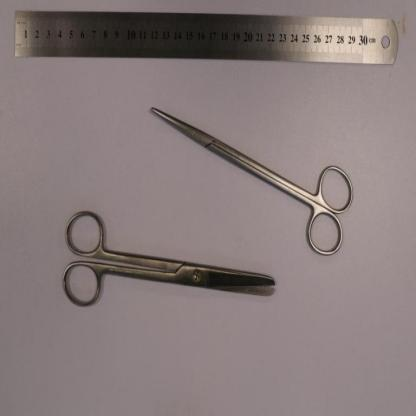7 Metzenbaum Scissors: (152, 106, 354, 256)
Dressing Scissors: (62, 207, 276, 309)
